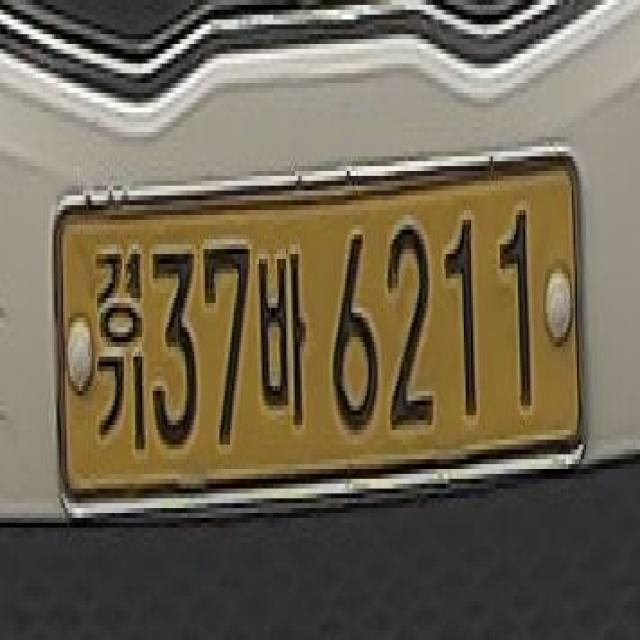plat: (52, 148, 586, 520)
